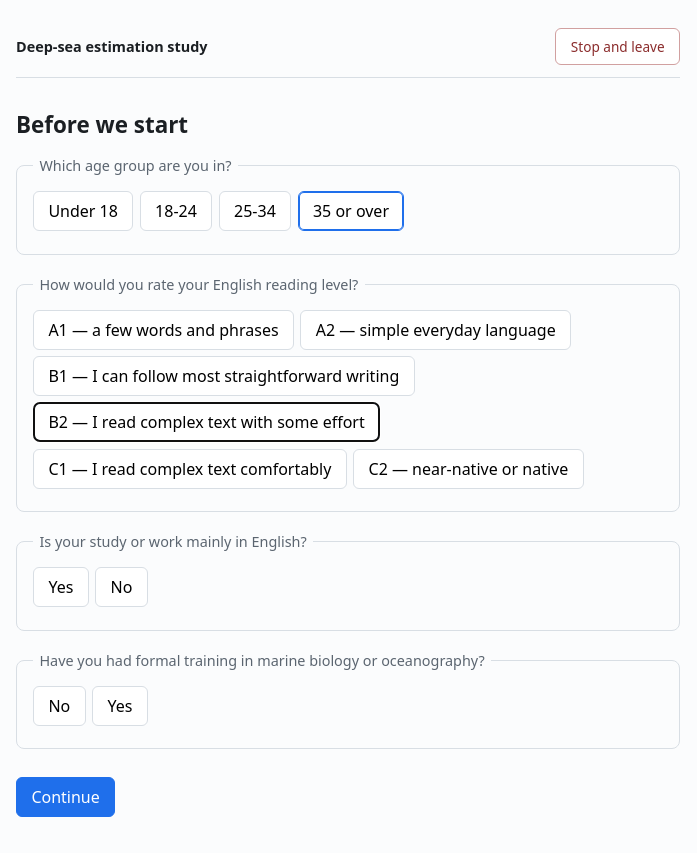
Test case: estimate and confidence controls › accepts an answer that equals the slider's resting position
The width and height of the screenshot is (697, 853).
Earlier steps of the test are not shown.
Step 1. Click the button with test id "study-language-english" → (61, 587), box x1=33 y1=567 x2=89 y2=607
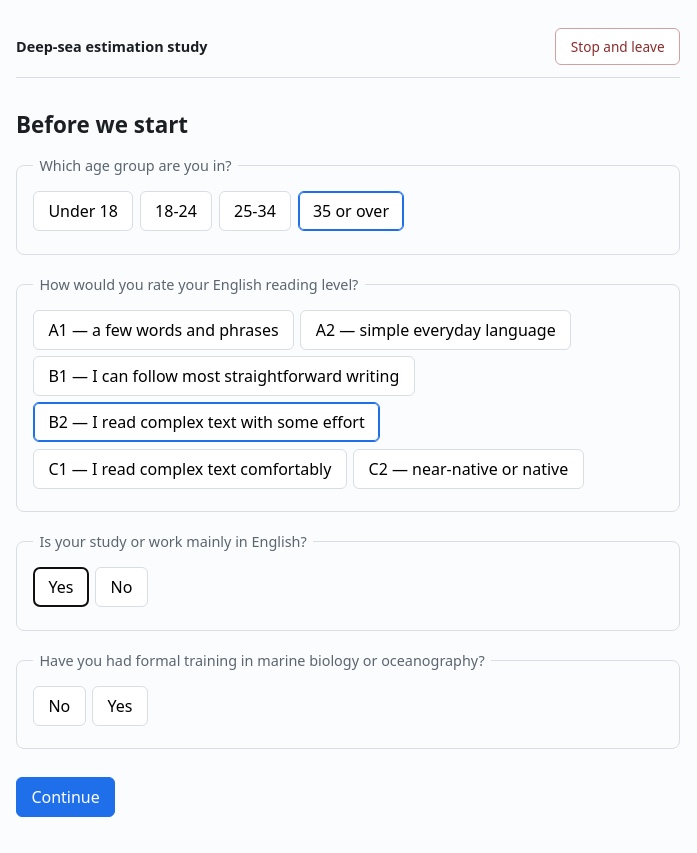
Step 2. Click the button with test id "training-no" → (59, 706), box x1=33 y1=686 x2=86 y2=726
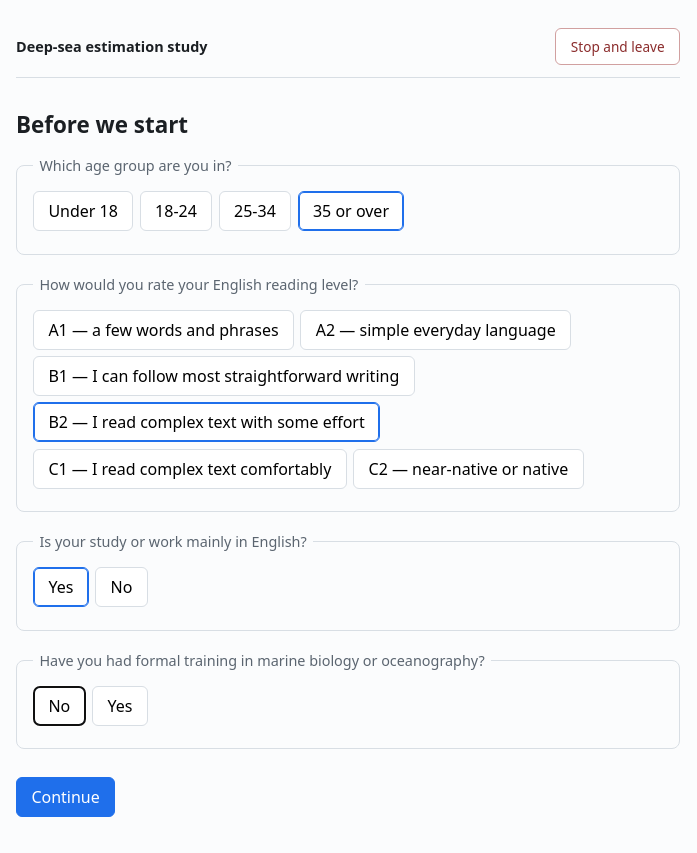
Step 3. Click the button with test id "submit-eligibility" → (66, 797), box x1=16 y1=777 x2=115 y2=817
(page scrolled)
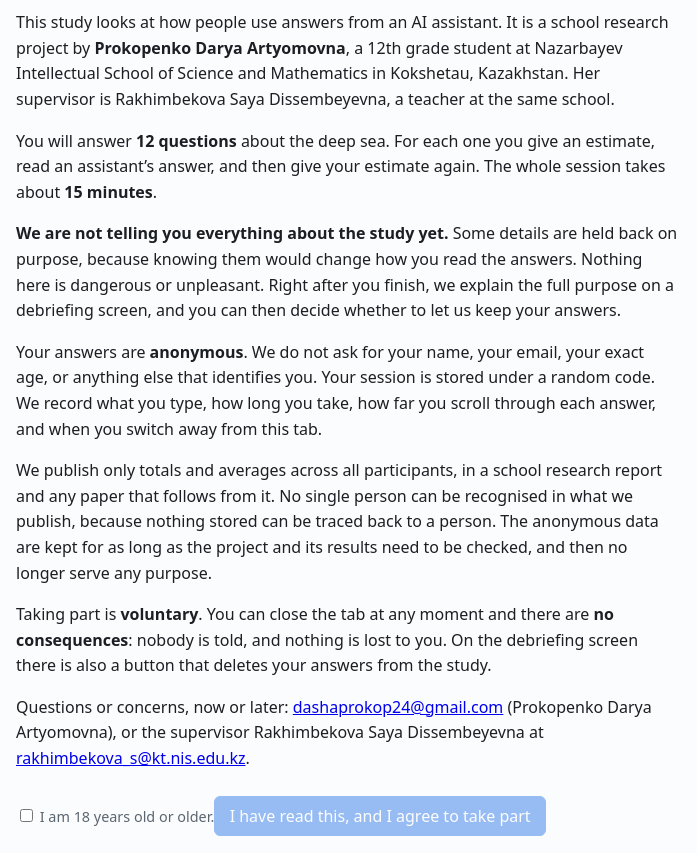
Step 4. Click the checkbox with test id "confirm-adult" → (26, 815), box x1=20 y1=809 x2=33 y2=822
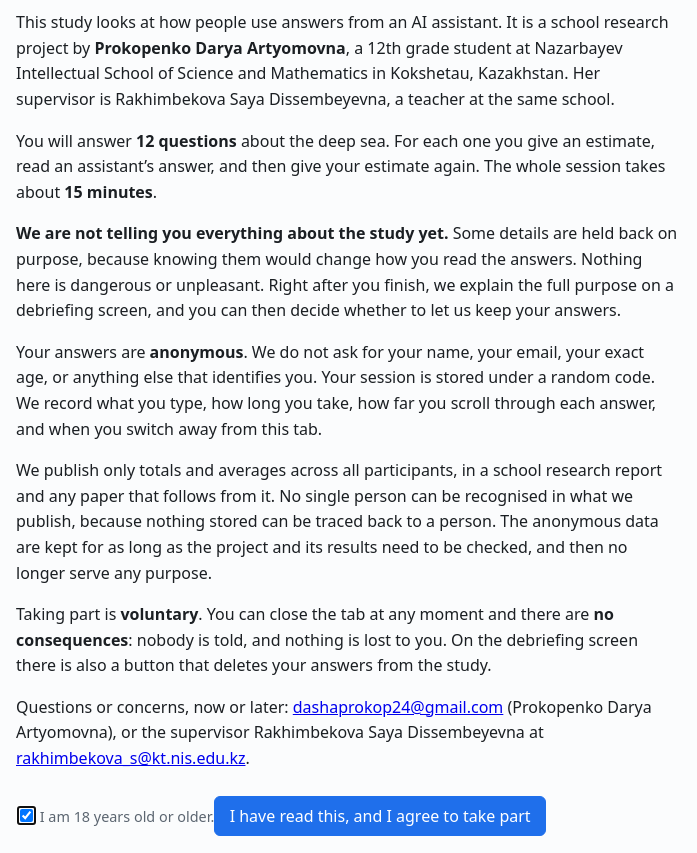
Step 5. Click the button with test id "give-consent" → (380, 816), box x1=214 y1=796 x2=546 y2=836
(page scrolled)
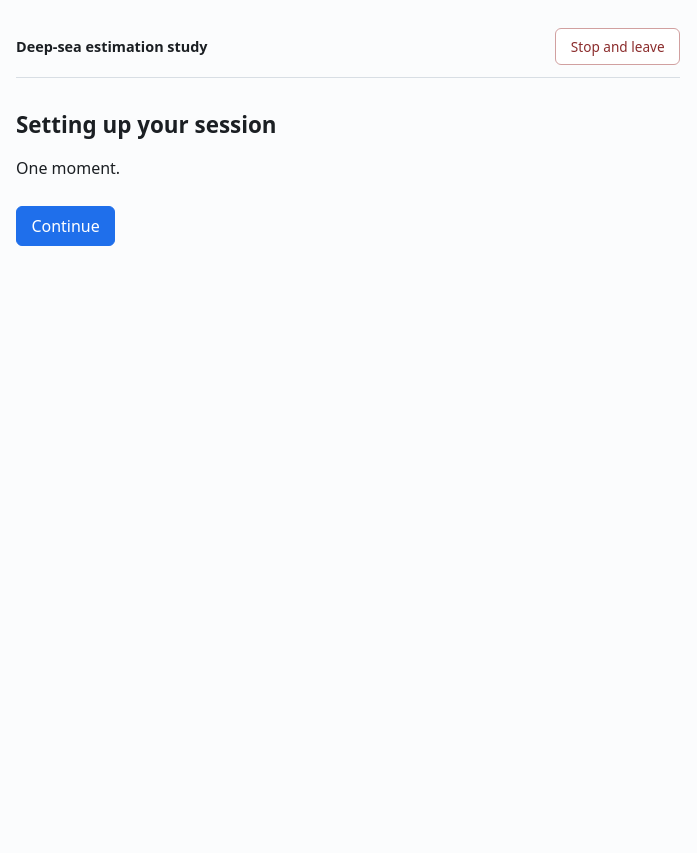
Step 6. Click the button with test id "allocate" → (66, 226), box x1=16 y1=206 x2=115 y2=246
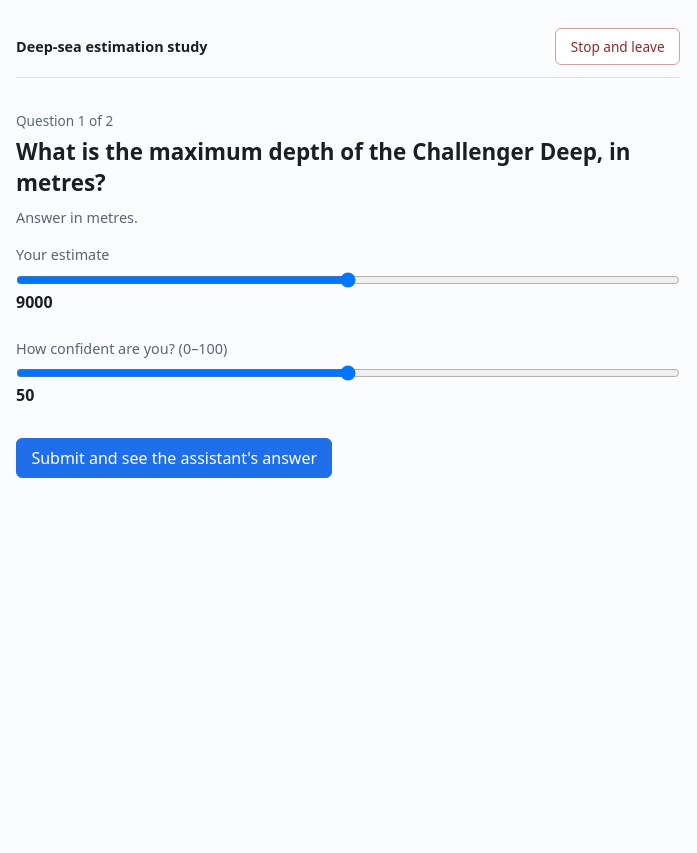
Result: the text with test id "initial-estimate-value" reads "9000" at x1=16 y1=291 x2=53 y2=313
Result: the button with test id "submit-initial" is enabled at x1=16 y1=438 x2=332 y2=478
